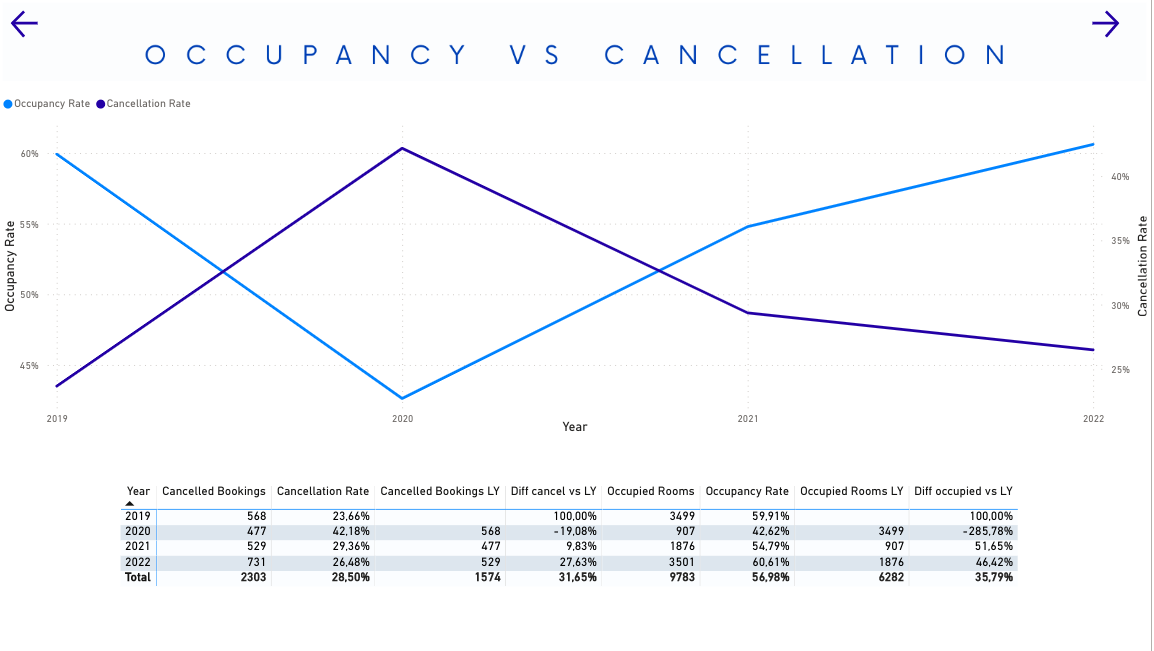

The page's visual inventory and layout, read from the dashboard file:
{"tool":"powerbi","page":{"name":"Cancellation/Occupancy","canvas":[1280,720],"ordinal":5},"visuals":[{"type":"lineChart","fields":{"Category":["calendar.year"],"Y2":["occupancy.Cancellation Rate"],"Y":["occupancy.Occupancy Rate"]},"box":[0,97.3,1280,390.7],"z":0},{"type":"image","box":[0,0,1280,96.9],"z":1000},{"type":"actionButton","box":[10.2,8.9,49.7,39.5],"z":2000},{"type":"pivotTable","fields":{"Rows":["calendar.year"],"Values":["statistics_per_day.Cancelled Bookings","occupancy.Cancellation Rate","statistics_per_day.Cancelled Bookings LY","reservations.Diff cancel vs LY","occupancy.Occupied Rooms","occupancy.Occupancy Rate","occupancy.Occupied Rooms LY","reservations.Diff occupied vs LY"]},"box":[130.7,536,1018.7,157.3],"z":3000},{"type":"actionButton","box":[1208.6,8.9,71.4,39.5],"z":3001}]}

Visuals, with their boxes in screenshot pixels (x1, y1, x2, y2), scaled from the page's 1280x720 canvas onto the 1154x651 screenshot:
lineChart - calendar.year x occupancy.Cancellation Rate: box(0, 88, 1153, 441)
image: box(0, 0, 1153, 88)
actionButton: box(9, 8, 54, 44)
pivotTable - calendar.year x statistics_per_day.Cancelled Bookings: box(118, 485, 1036, 627)
actionButton: box(1090, 8, 1153, 44)
